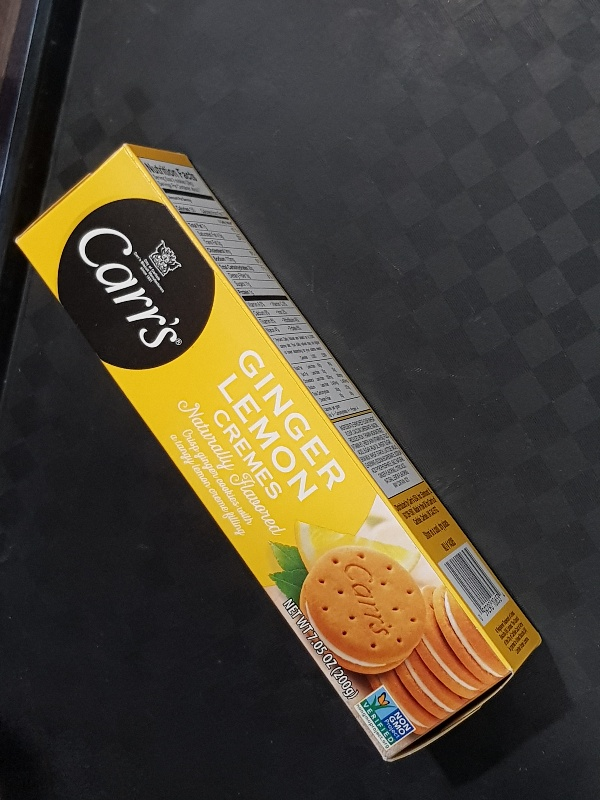Carr's Ginger Lemon Cremes: (12, 143, 542, 761)
